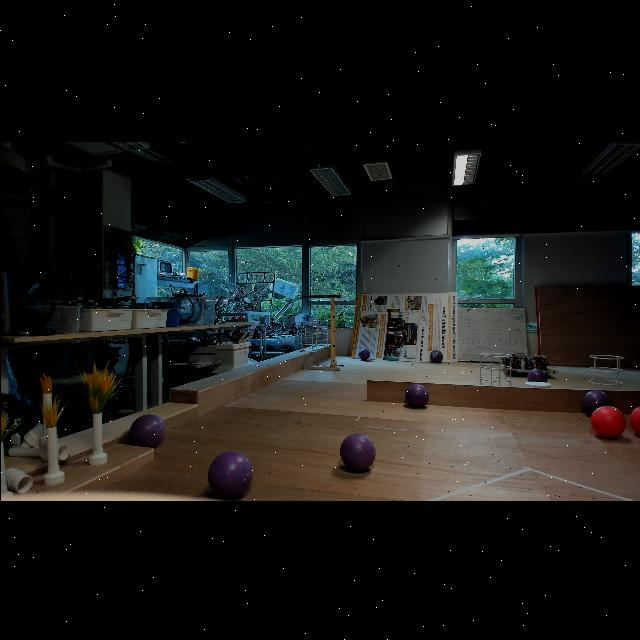P: (207, 449, 253, 497), (338, 432, 376, 471), (124, 414, 166, 448), (581, 389, 611, 415), (404, 383, 428, 407), (526, 368, 546, 384), (429, 348, 443, 362), (357, 347, 369, 359)
R: (589, 404, 625, 438), (628, 404, 640, 436)
S: (586, 352, 624, 396), (478, 350, 512, 388), (298, 320, 318, 350), (311, 318, 327, 346)
